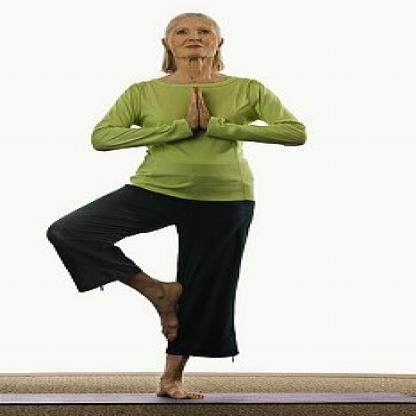tree: (29, 6, 317, 402)
